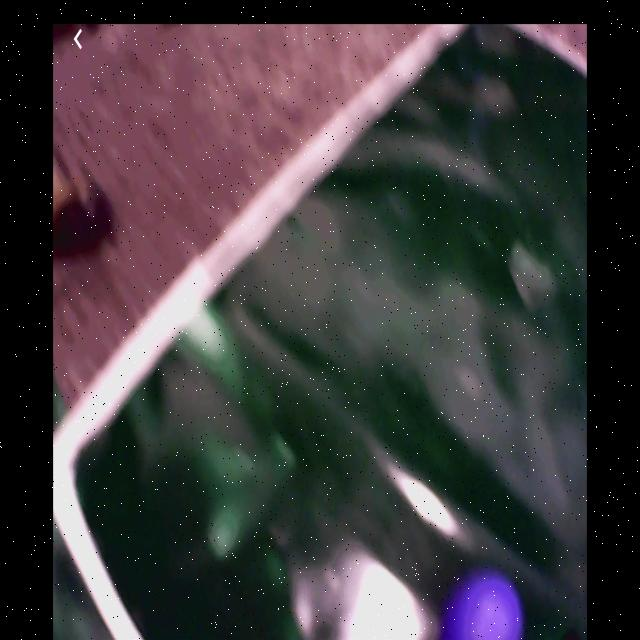ball: (442, 573, 523, 640)
